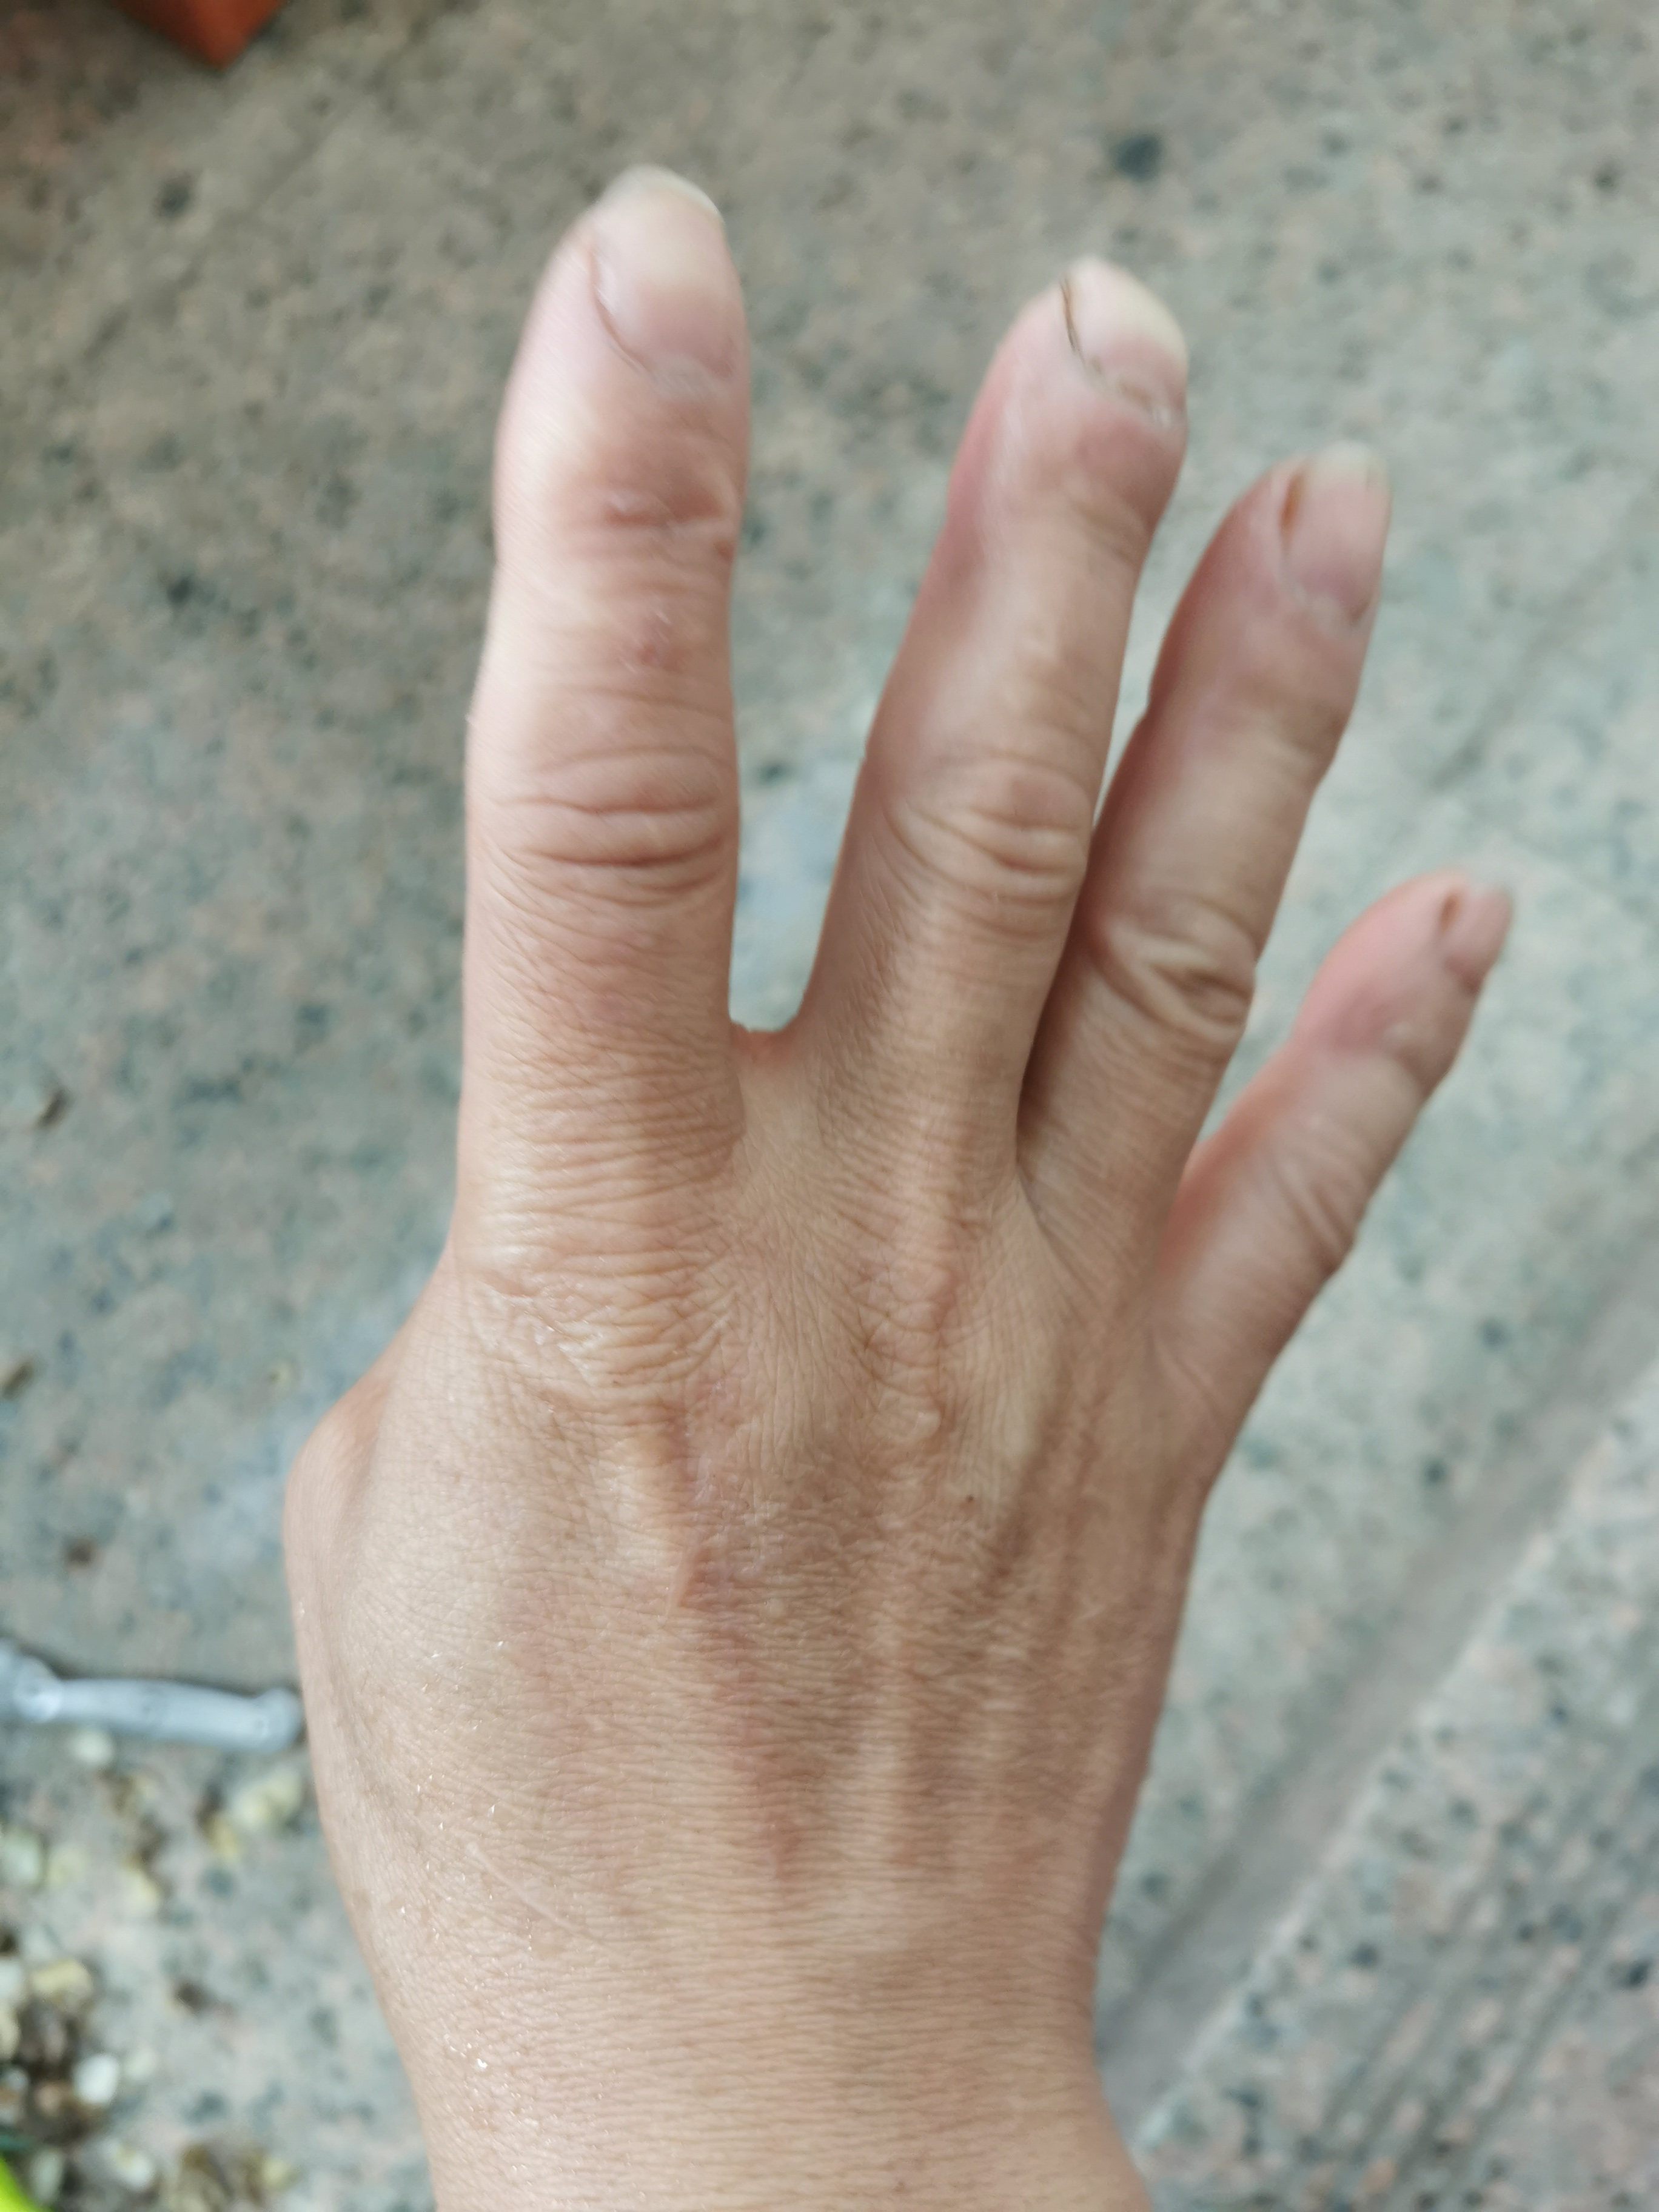right: (253, 178, 1502, 2069)
